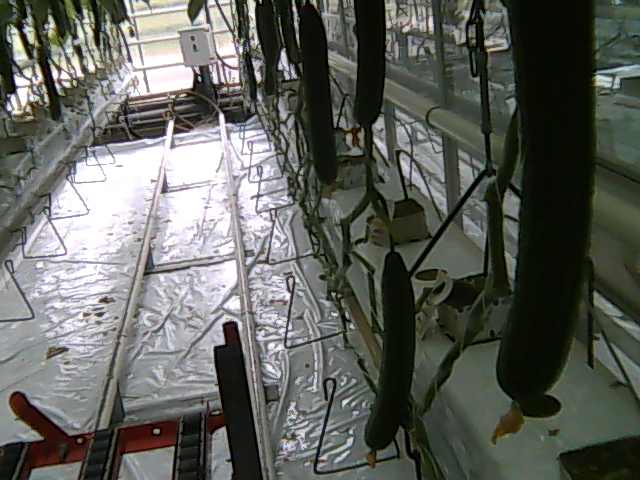concombre: (491, 1, 602, 449), (359, 241, 421, 469), (297, 1, 343, 203), (349, 1, 388, 142)
